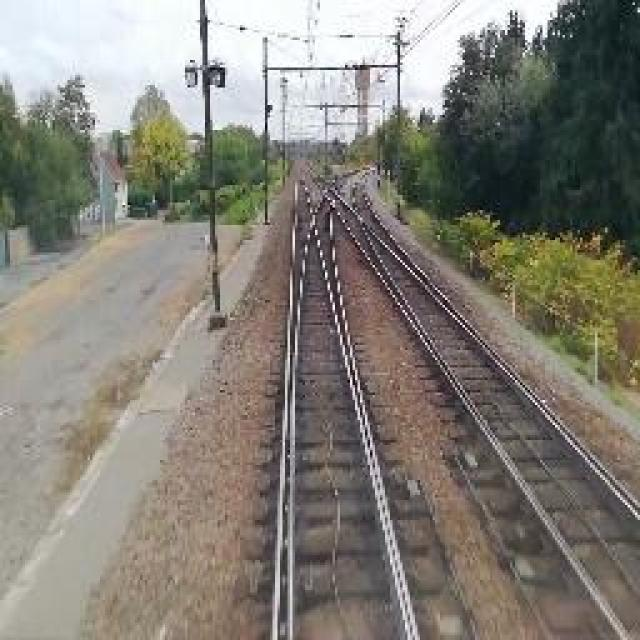rail: (248, 162, 500, 640)
